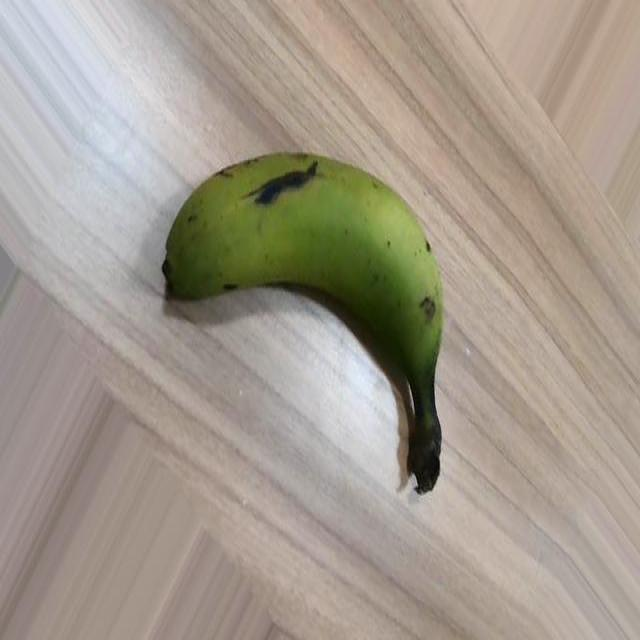Unripe: (163, 148, 446, 494)
